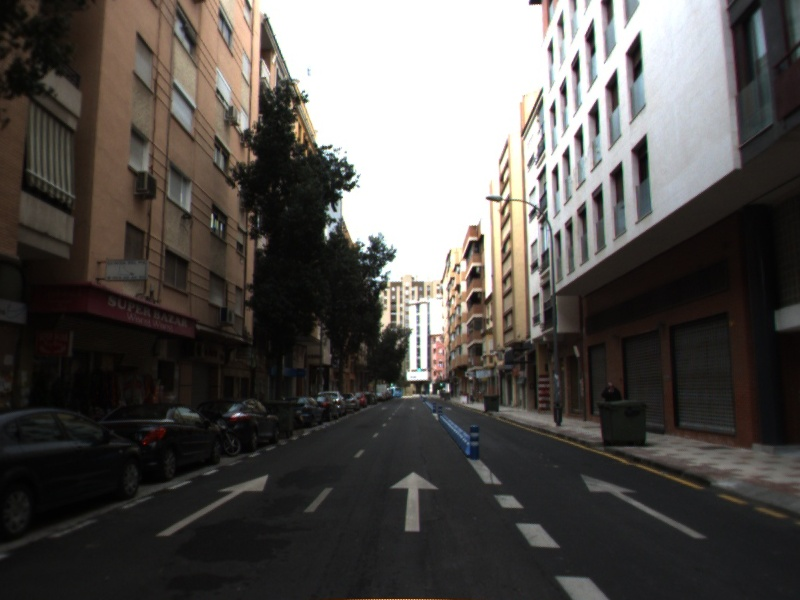STRAIGHT: (579, 472, 708, 540), (154, 473, 270, 538), (388, 470, 441, 533)
